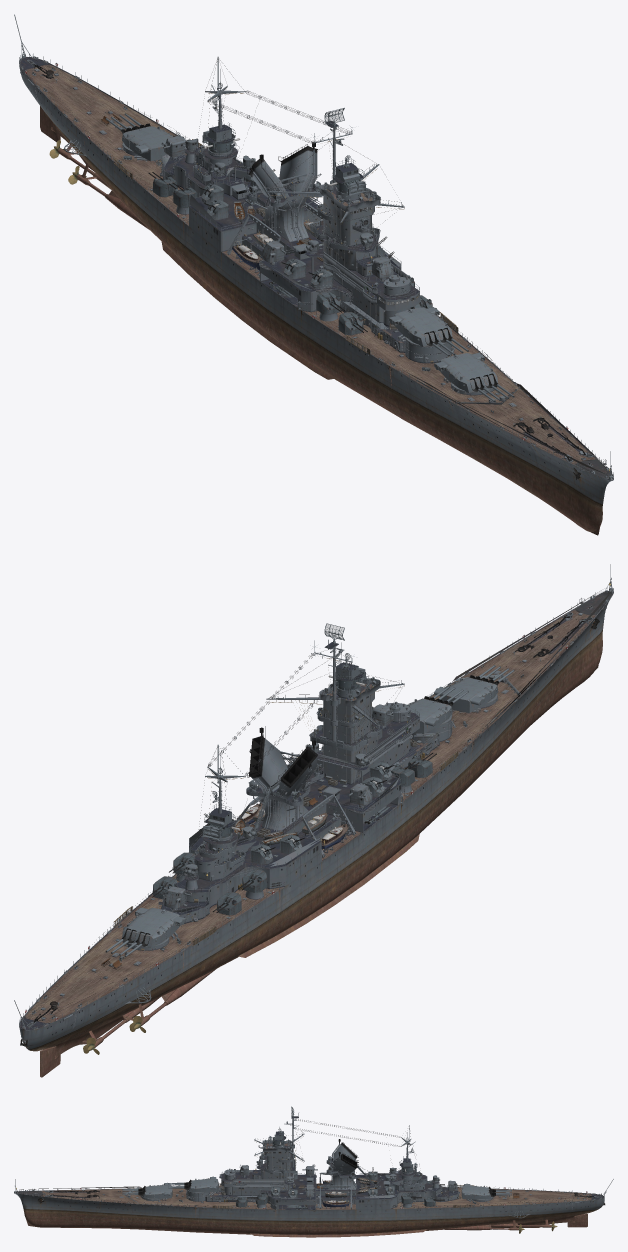
Rendered from conde-maximum-compressed.glb.
3 renders of one model, top to bottom at view 1: azimuth 30°, elevation 25°; view 2: azimuth 150°, elevation 25°; view 3: azimuth 270°, elevation 25°, orthographic. The views are drawn at different scales.
Visible parts, largest first — view 1: Object_79, Object_34, Object_36, Object_78, Object_38, Object_33, Object_67, Object_66, Object_35, Object_42, Object_68, Object_40 (+10 smaller); view 2: Object_79, Object_34, Object_38, Object_78, Object_33, Object_36, Object_68, Object_42, Object_62, Object_66, Object_37, Object_67 (+9 smaller); view 3: Object_34, Object_38, Object_79, Object_36, Object_78, Object_33, Object_35, Object_37, Object_68, Object_67, Object_66, Object_42 (+11 smaller).
Boxes of the visible parts, x1,y1,x2,y2 form: Object_79: (20,57,612,478); Object_34: (259,114,480,417); Object_36: (416,362,613,535); Object_78: (110,142,323,277); Object_38: (105,56,321,319); Object_33: (14,14,397,341); Object_67: (388,307,468,356); Object_66: (434,353,514,402); Object_35: (389,346,492,437); Object_42: (99,58,321,254); Object_68: (105,113,185,161); Object_40: (259,120,486,373); Object_79: (20,564,613,1029); Object_34: (260,639,480,884); Object_38: (107,744,361,1005); Object_78: (110,727,356,951); Object_33: (14,653,416,1077); Object_36: (428,588,613,772); Object_68: (105,907,186,956); Object_42: (99,726,335,954); Object_62: (148,852,266,915); Object_66: (434,665,514,712); Object_37: (85,828,269,1022); Object_67: (408,686,468,733); Object_34: (181,1113,323,1237); Object_38: (316,1125,493,1237); Object_79: (15,1116,603,1209); Object_36: (14,1187,178,1230); Object_78: (316,1139,481,1209); Object_33: (223,1119,613,1237); Object_35: (167,1187,195,1232); Object_37: (364,1186,517,1229); Object_68: (461,1183,511,1200); Object_67: (168,1176,218,1193); Object_66: (122,1182,172,1199); Object_42: (322,1126,492,1208).
Size of the model in its own units: 1.83 by 3.67 by 16.78.
68 materials, 67 textured.
